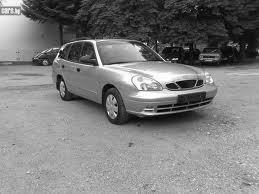car: (52, 38, 220, 126)
